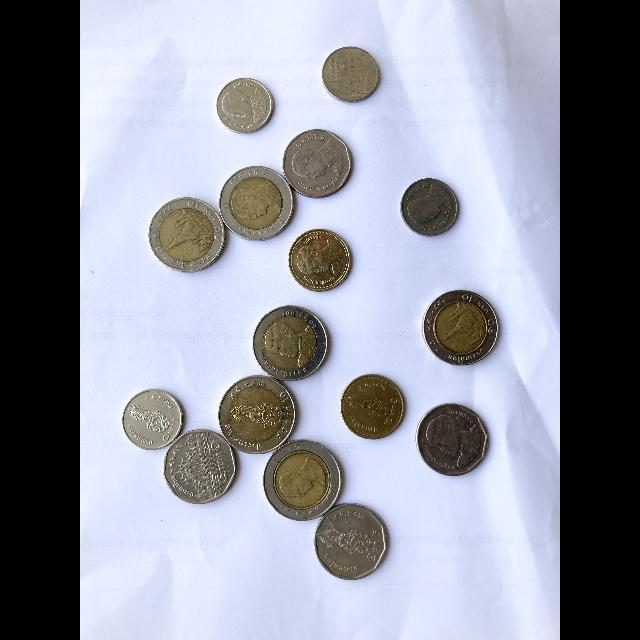1 Bath: (123, 389, 186, 457), (399, 177, 464, 240), (321, 47, 387, 107), (216, 78, 276, 139)
10 Bath: (213, 374, 301, 456), (147, 194, 231, 276), (422, 287, 504, 370), (261, 441, 345, 520), (218, 166, 301, 245), (250, 306, 333, 383)
2 Bath: (341, 371, 409, 448), (288, 230, 354, 296)
5 Bath: (163, 427, 243, 508), (313, 501, 391, 583), (415, 402, 491, 483), (281, 128, 357, 200)
